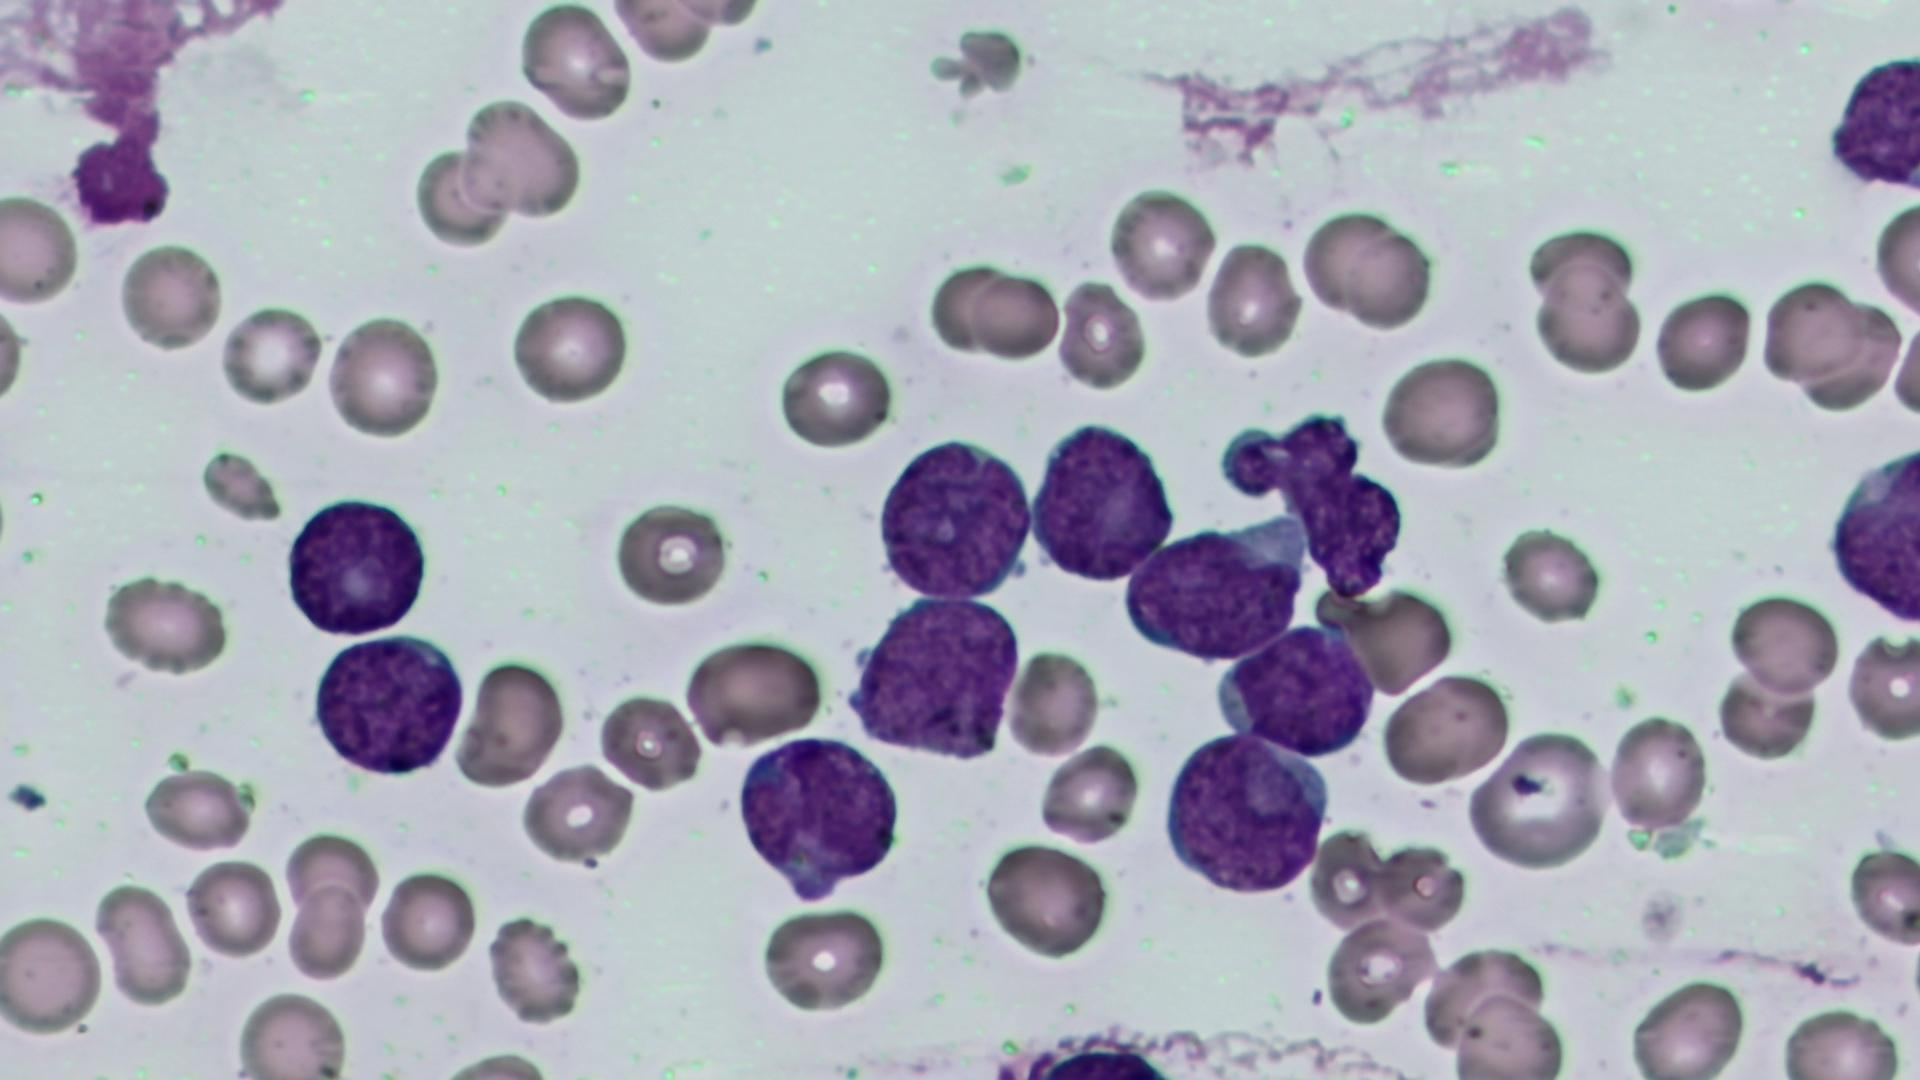Platelets: (5, 779, 47, 815)
RBC: (1465, 728, 1614, 870), (1296, 204, 1436, 330), (680, 633, 825, 750), (980, 837, 1112, 963), (324, 309, 446, 444), (458, 94, 582, 225), (757, 899, 891, 1019), (505, 285, 632, 411), (1375, 349, 1509, 469), (607, 492, 741, 611), (454, 651, 568, 790), (1378, 670, 1509, 789), (514, 0, 636, 125), (771, 338, 899, 455), (1102, 179, 1218, 309), (99, 570, 229, 676), (113, 235, 227, 357), (0, 909, 105, 1036), (1530, 266, 1647, 381), (1323, 914, 1437, 1030), (1605, 709, 1710, 833), (1345, 583, 1458, 698), (96, 874, 194, 1006), (1726, 587, 1840, 699), (520, 760, 636, 866), (1650, 282, 1755, 400), (1203, 236, 1304, 357), (1625, 977, 1750, 1075), (216, 297, 324, 409), (1758, 272, 1857, 392), (595, 687, 703, 796), (378, 862, 479, 980), (1001, 644, 1097, 758), (236, 985, 353, 1077), (1058, 276, 1149, 393), (137, 764, 255, 855), (1448, 992, 1571, 1079), (185, 857, 282, 963), (1774, 1004, 1909, 1077), (1, 189, 83, 310), (968, 265, 1065, 364), (1845, 829, 1920, 953), (1844, 624, 1917, 746), (284, 882, 369, 981), (1873, 193, 1920, 328), (1884, 311, 1920, 433)
WBC: (848, 585, 1029, 764), (1156, 727, 1340, 898), (735, 729, 906, 905), (873, 433, 1038, 603), (1124, 518, 1304, 669), (1029, 415, 1180, 585), (309, 630, 472, 781), (1212, 622, 1386, 764), (286, 489, 439, 636), (1826, 433, 1920, 633), (1826, 41, 1920, 199)
